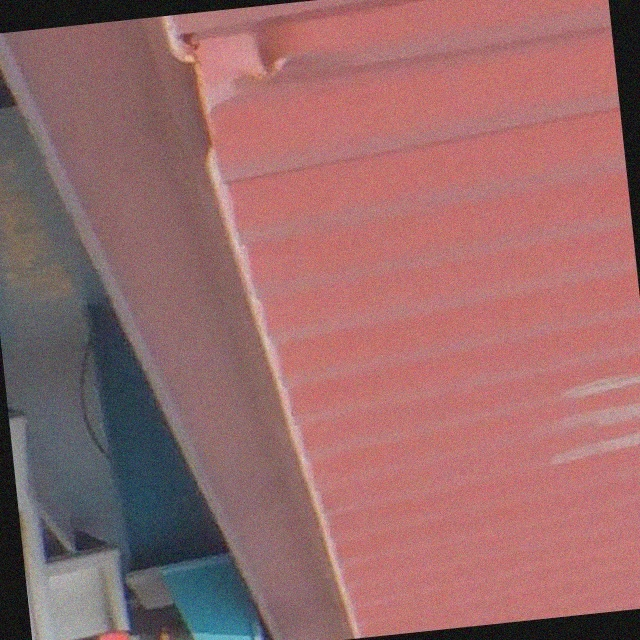Dent: (183, 13, 335, 192)
